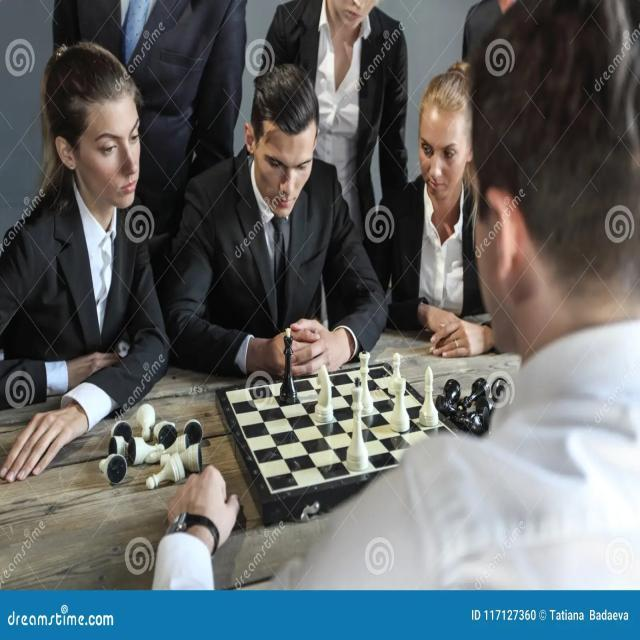chess-table-corners: (266, 482, 280, 501), (222, 388, 230, 398), (380, 364, 384, 371)
